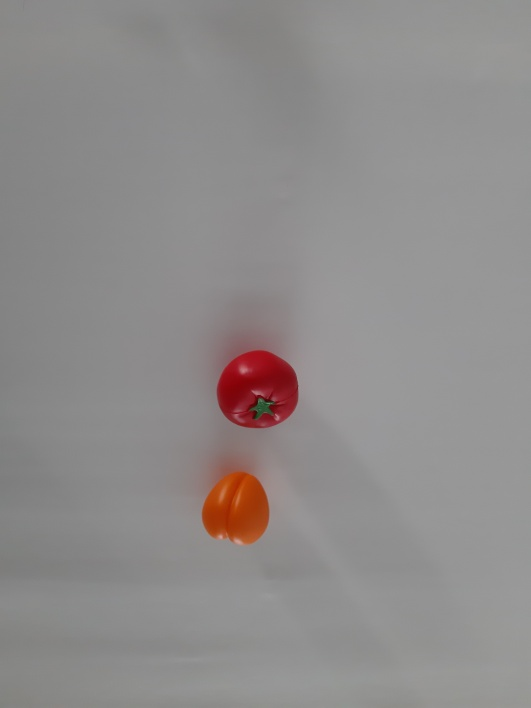apricot: (185, 465, 287, 555)
tomato: (189, 343, 320, 443)
